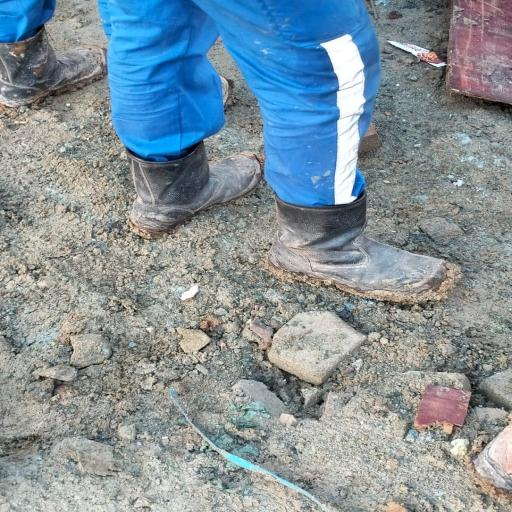safety_shoe: (270, 190, 459, 303), (117, 142, 266, 232), (0, 27, 118, 102)
